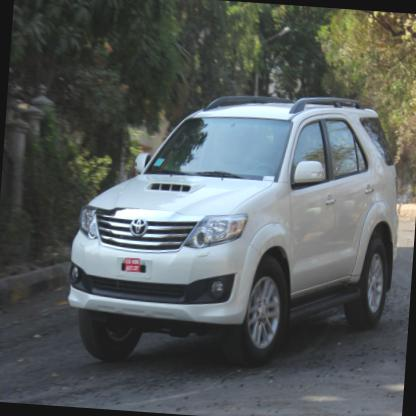car: (64, 84, 407, 382)
